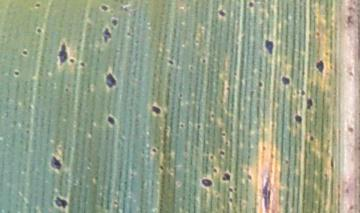tarspot: (55, 40, 69, 65), (104, 73, 117, 89), (54, 195, 68, 209), (49, 155, 62, 170), (102, 27, 112, 46), (265, 40, 274, 54), (316, 60, 325, 74), (106, 115, 116, 127), (329, 156, 336, 172), (201, 179, 213, 187), (151, 106, 161, 115), (281, 76, 290, 86), (294, 115, 302, 125), (306, 99, 313, 110), (222, 173, 230, 181), (100, 4, 109, 11), (111, 18, 118, 27), (168, 59, 175, 66), (218, 10, 225, 17), (36, 28, 42, 34), (22, 50, 28, 56), (248, 2, 254, 8), (300, 90, 306, 96), (309, 135, 314, 142), (35, 3, 40, 9), (228, 187, 233, 193), (247, 174, 252, 180), (219, 150, 224, 156), (209, 155, 215, 160), (347, 127, 353, 132), (233, 71, 238, 77), (261, 145, 266, 151), (270, 153, 274, 160), (14, 71, 19, 76), (70, 58, 75, 63), (228, 198, 233, 203), (213, 169, 218, 174), (284, 160, 289, 165), (324, 51, 329, 56), (258, 82, 262, 88), (80, 62, 85, 66), (152, 148, 156, 153), (196, 124, 201, 128), (202, 59, 206, 64), (226, 87, 230, 92), (222, 132, 226, 137), (64, 88, 69, 92), (316, 32, 321, 36), (189, 66, 193, 71), (159, 166, 163, 170), (26, 130, 30, 134), (224, 141, 229, 144), (330, 65, 333, 70), (180, 124, 183, 127), (179, 94, 182, 97), (211, 115, 214, 118)
